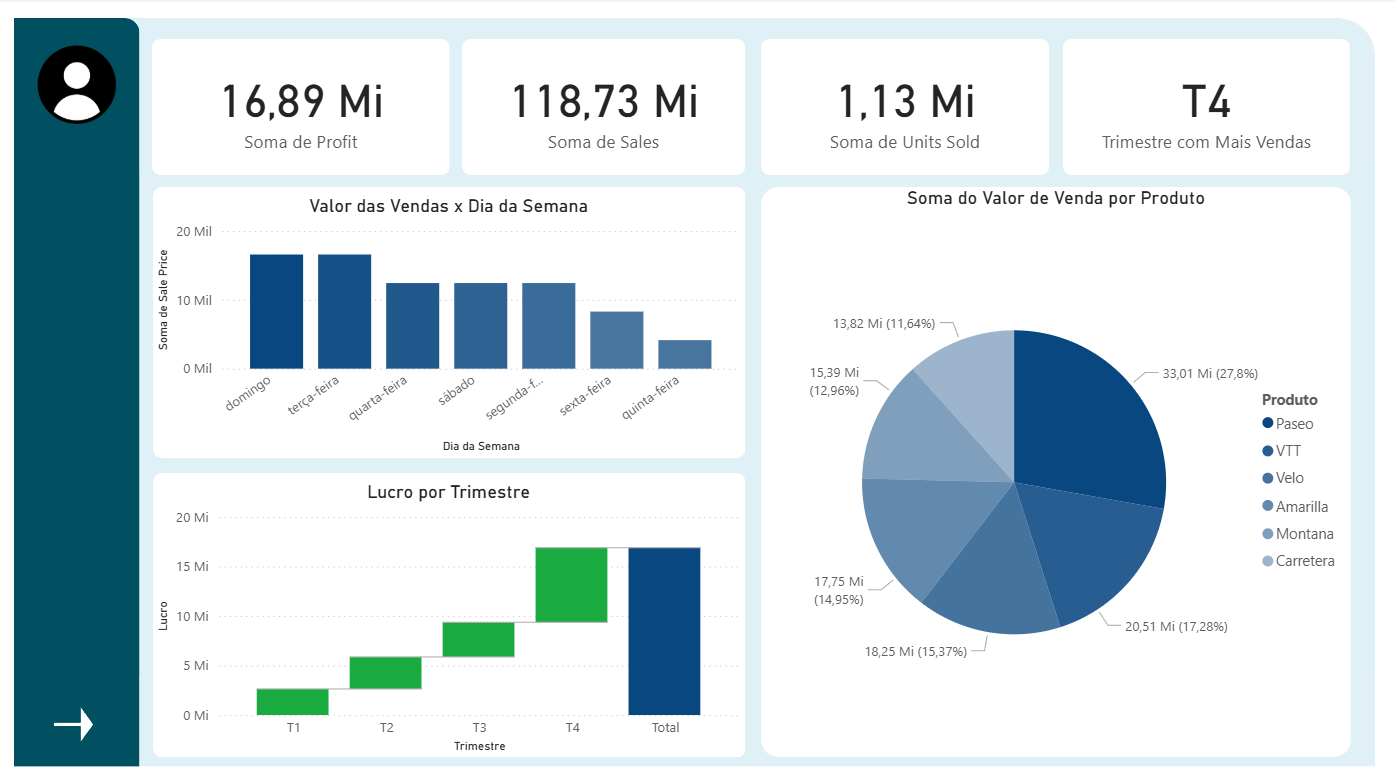

What the dashboard file says about the page in this screenshot:
{"tool":"powerbi","page":{"name":"Página 1","canvas":[1280,720],"ordinal":0},"visuals":[{"type":"shape","box":[13.4,14.4,1248,686.9],"z":0},{"type":"shape","box":[139.2,34,273.3,124.8],"z":0,"group":"g1"},{"type":"card","fields":{"Values":["Sum(F_Vendas.Sales)"]},"box":[423.9,34,259.9,124.8],"z":0,"group":"g2"},{"type":"shape","box":[698.3,34,264.5,124.8],"z":0,"group":"g3"},{"type":"shape","box":[975.7,34,263.5,124.8],"z":0,"group":"g4"},{"type":"card","fields":{"Values":["Sum(F_Vendas.Profit)"]},"box":[139.2,34,273.3,124.8],"z":1000,"group":"g1"},{"type":"shape","box":[423.9,34,259.9,124.8],"z":1000},{"type":"card","fields":{"Values":["Sum(F_Vendas.Units Sold)"]},"box":[698.3,34,264.5,124.8],"z":1000,"group":"g3"},{"type":"card","fields":{"Values":["D_Calendar.Trimestre com Mais Vendas"]},"box":[975.7,34,263.5,124.8],"z":1000,"group":"g4"},{"type":"shape","box":[13.3,14.3,115.3,687],"z":2000},{"type":"group","id":"g1","title":"Prod Mais Vend","box":[139.2,34,273.3,124.8],"z":3000},{"type":"group","id":"g2","title":"Prod Mais Vend","box":[423.9,34,259.9,124.8],"z":4000},{"type":"group","id":"g3","title":"Prod Mais Vend","box":[698.3,34,264,124.8],"z":5000},{"type":"group","id":"g4","title":"Prod Mais Vend","box":[975.7,34,264,124.8],"z":7000},{"type":"shape","box":[140.3,170.2,543.6,248.6],"z":8000},{"type":"shape","box":[698.3,170.2,541.5,522.9],"z":9000},{"type":"columnChart","title":"Valor das Vendas x Dia da Semana","fields":{"Category":["D_Calendar.Dia da Semana"],"Y":["Sum(F_Vendas.Sale Price)"]},"box":[139.2,177.4,544.6,241.4],"z":10000},{"type":"pieChart","fields":{"Category":["F_Vendas.Product"],"Y":["Sum(F_Vendas.Sales)"]},"box":[698.3,170.2,541.5,522.9],"z":11000},{"type":"shape","box":[140.3,432.2,543.6,261],"z":12000},{"type":"waterfallChart","fields":{"Category":["D_Calendar.Trimestre"],"Y":["Sum(F_Vendas.Profit)"]},"box":[139.2,439.4,544.6,253.7],"z":13000},{"type":"shape","box":[49.5,646.7,36.1,32],"z":14000},{"type":"image","box":[27.4,34.6,85.9,82.3],"z":14001}]}

Visuals, with their boxes in screenshot pixels (x1, y1, x2, y2), scaled from the page's 1280x720 canvas onto the 1395x779 screenshot:
shape: 15/16/1375/759
shape: 152/37/450/172
card - Sum(F_Vendas.Sales): 462/37/745/172
shape: 761/37/1049/172
shape: 1063/37/1351/172
card - Sum(F_Vendas.Profit): 152/37/450/172
shape: 462/37/745/172
card - Sum(F_Vendas.Units Sold): 761/37/1049/172
card - D_Calendar.Trimestre com Mais Vendas: 1063/37/1351/172
shape: 14/15/140/759
"Prod Mais Vend" group: 152/37/450/172
"Prod Mais Vend" group: 462/37/745/172
"Prod Mais Vend" group: 761/37/1049/172
"Prod Mais Vend" group: 1063/37/1351/172
shape: 153/184/745/453
shape: 761/184/1351/750
"Valor das Vendas x Dia da Semana" columnChart: 152/192/745/453
pieChart - F_Vendas.Product x Sum(F_Vendas.Sales): 761/184/1351/750
shape: 153/468/745/750
waterfallChart - D_Calendar.Trimestre x Sum(F_Vendas.Profit): 152/475/745/750
shape: 54/700/93/734
image: 30/37/123/126
